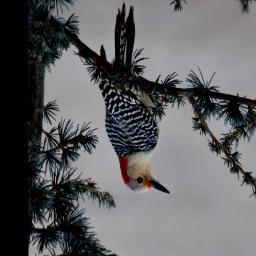Woodpecker: (98, 4, 170, 194)
